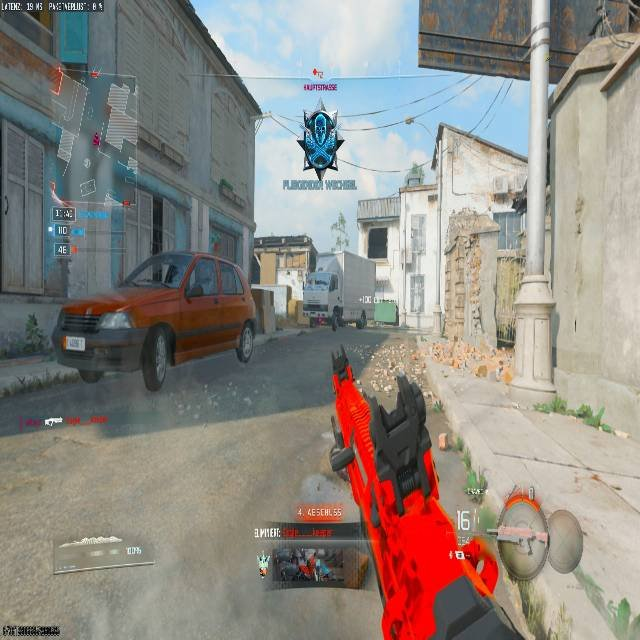player: (300, 106, 343, 181), (330, 304, 343, 331)
